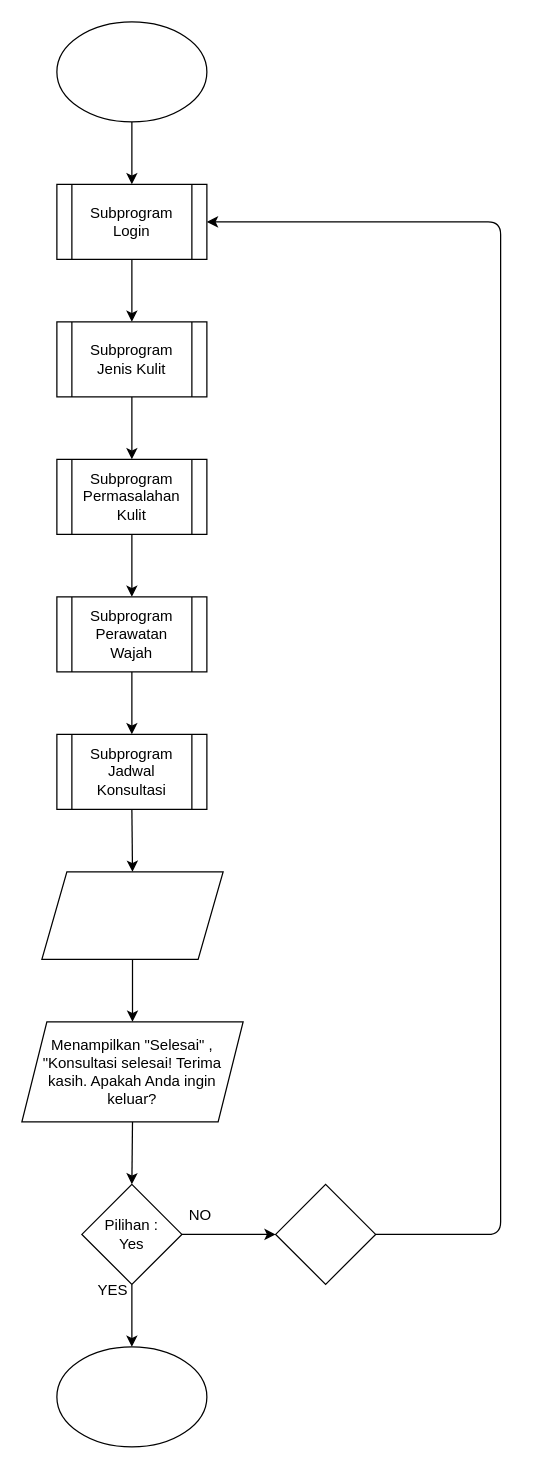
Image size: 533x1469. Some labels were removed from this diagram. The shapes that lost their labels are listed below. From the top down, each one's centre as x and y in pixels, then its label:
At (x=131, y=71): "Mulai".
At (x=132, y=915): "Menampilkan detail perawatan wajah dan total biaya".
At (x=325, y=1233): "Pilihan : No".
At (x=131, y=1396): "Selesai".
